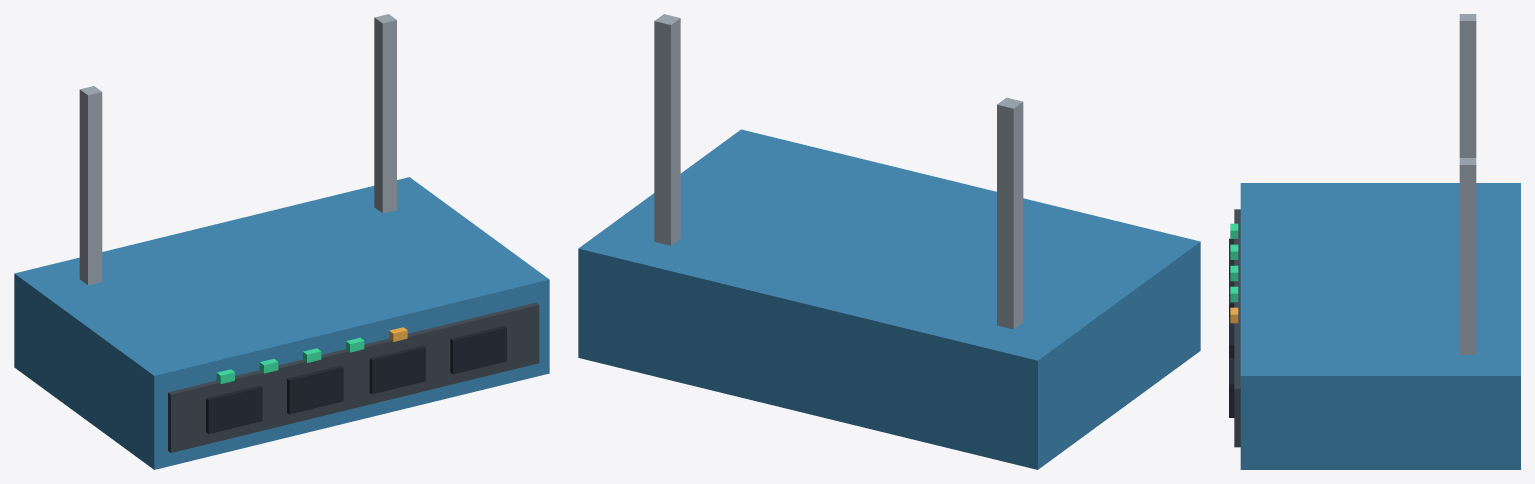
Rendered from router.glb.
The picture shows the model from 3 angles, left to right: view 1: azimuth 30°, elevation 25°; view 2: azimuth 150°, elevation 25°; view 3: azimuth 270°, elevation 25°; orthographic projection. The views are drawn at different scales.
Parts seen in each view (by area): view 1: Router chassis, Front panel, Left antenna, Right antenna, Ethernet port 2, Ethernet port 4, Ethernet port 1, Ethernet port 3; view 2: Router chassis, Left antenna, Right antenna; view 3: Router chassis, Right antenna, Left antenna, Front panel, Ethernet port 4.
Part boxes in pixels (<box>): Router chassis: <box>14,177,549,469</box>; Front panel: <box>168,302,539,452</box>; Left antenna: <box>79,86,102,285</box>; Right antenna: <box>374,14,396,213</box>; Ethernet port 2: <box>287,365,343,414</box>; Ethernet port 4: <box>450,325,506,374</box>; Ethernet port 1: <box>206,385,262,433</box>; Ethernet port 3: <box>369,345,425,394</box>; Router chassis: <box>578,129,1200,469</box>; Left antenna: <box>997,97,1023,329</box>; Right antenna: <box>654,14,680,245</box>; Router chassis: <box>1240,183,1520,469</box>; Right antenna: <box>1459,158,1476,354</box>; Left antenna: <box>1459,14,1476,157</box>; Front panel: <box>1234,209,1240,447</box>; Ethernet port 4: <box>1229,358,1234,417</box>.
Size of the model in its own units: 2.2 by 1.51 by 1.41.
